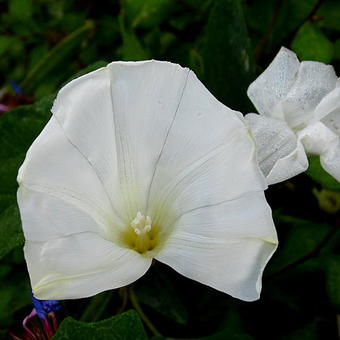haagwinde: (10, 39, 284, 309)
